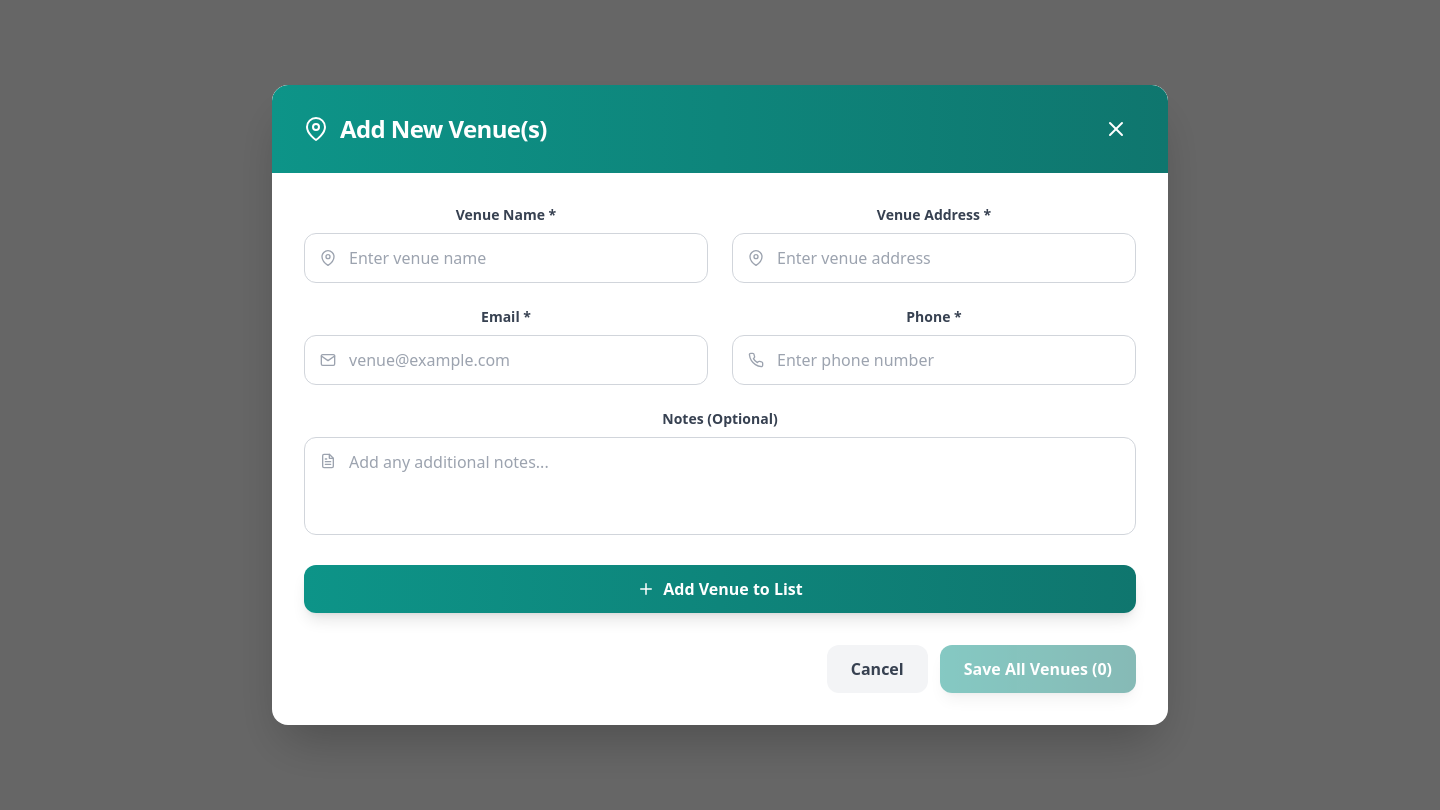
Test case: AddVenuesModal › shows error if saving fails
Step 1. Type "Test Venue" into the field with placeholder "Enter venue name" → (506, 258), box [304, 233, 708, 283]
Step 2. Type "123 Street" into the field with placeholder "Enter venue address" → (934, 258), box [732, 233, 1136, 283]
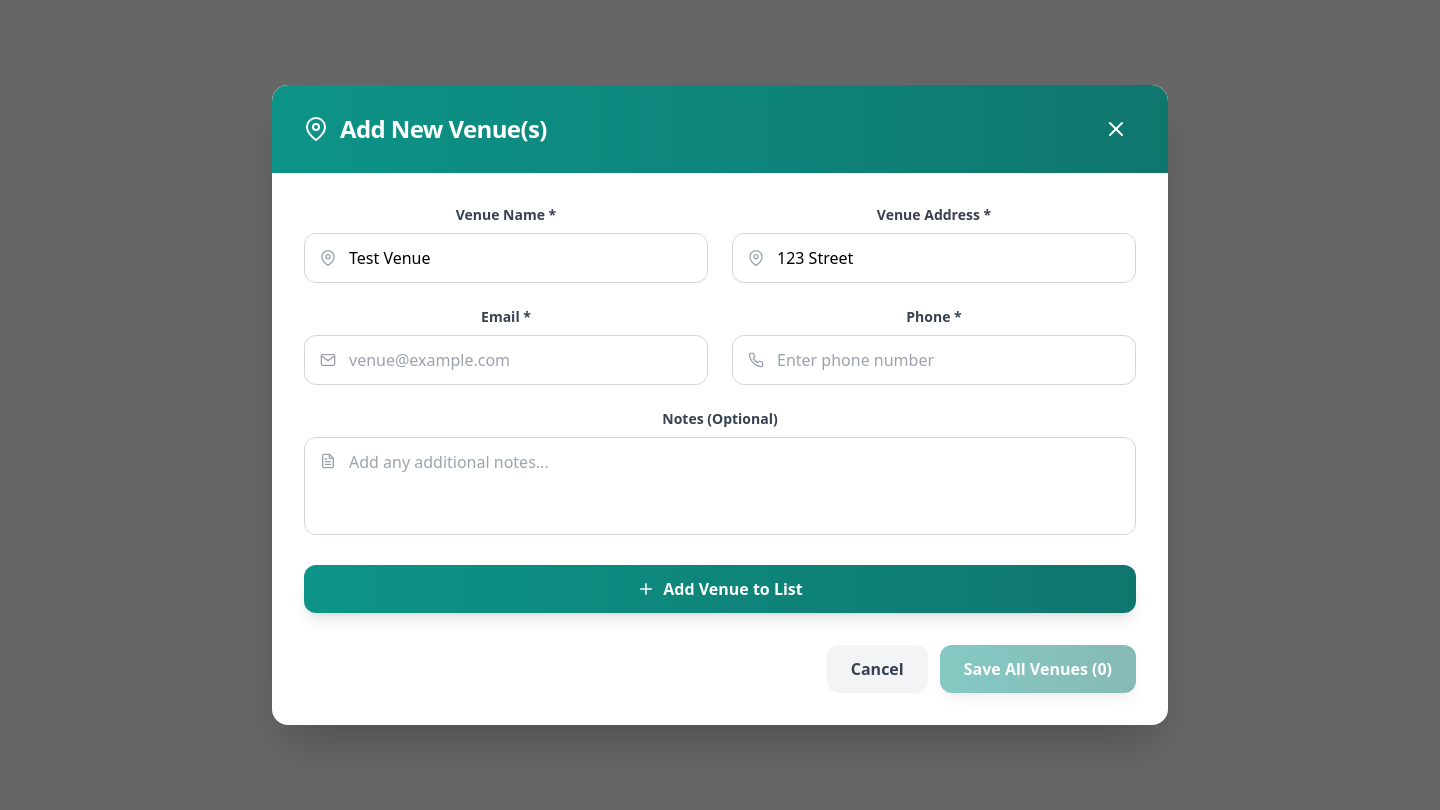
Step 3. Type "test@venue.com" into the field with placeholder "venue@example.com" → (506, 360), box [304, 335, 708, 385]
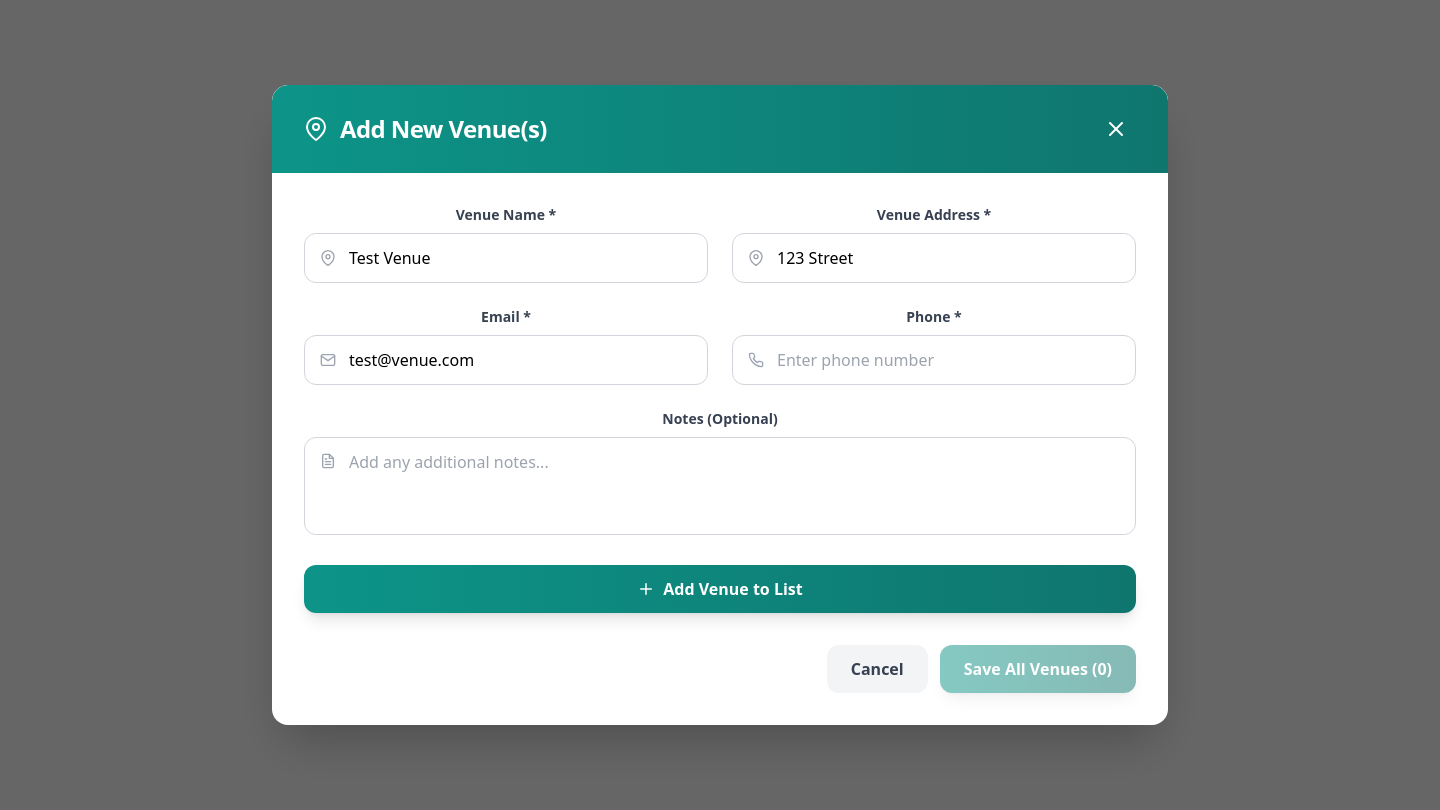
Step 4. Type "1234567890" into the field with placeholder "Enter phone number" → (934, 360), box [732, 335, 1136, 385]
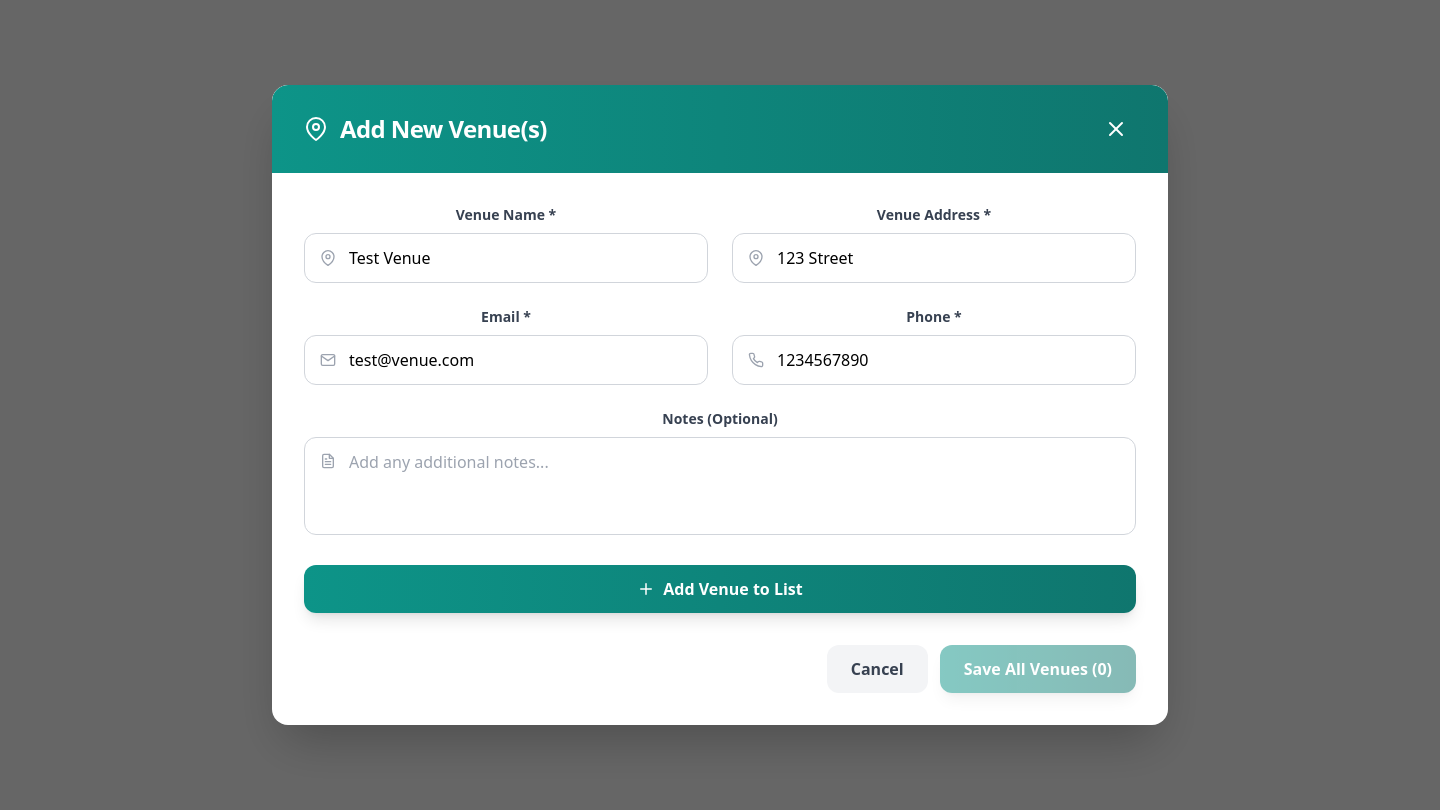
Step 5. Type "Nice place" into the text box with placeholder "Add any additional notes..." → (720, 486), box [304, 437, 1136, 535]
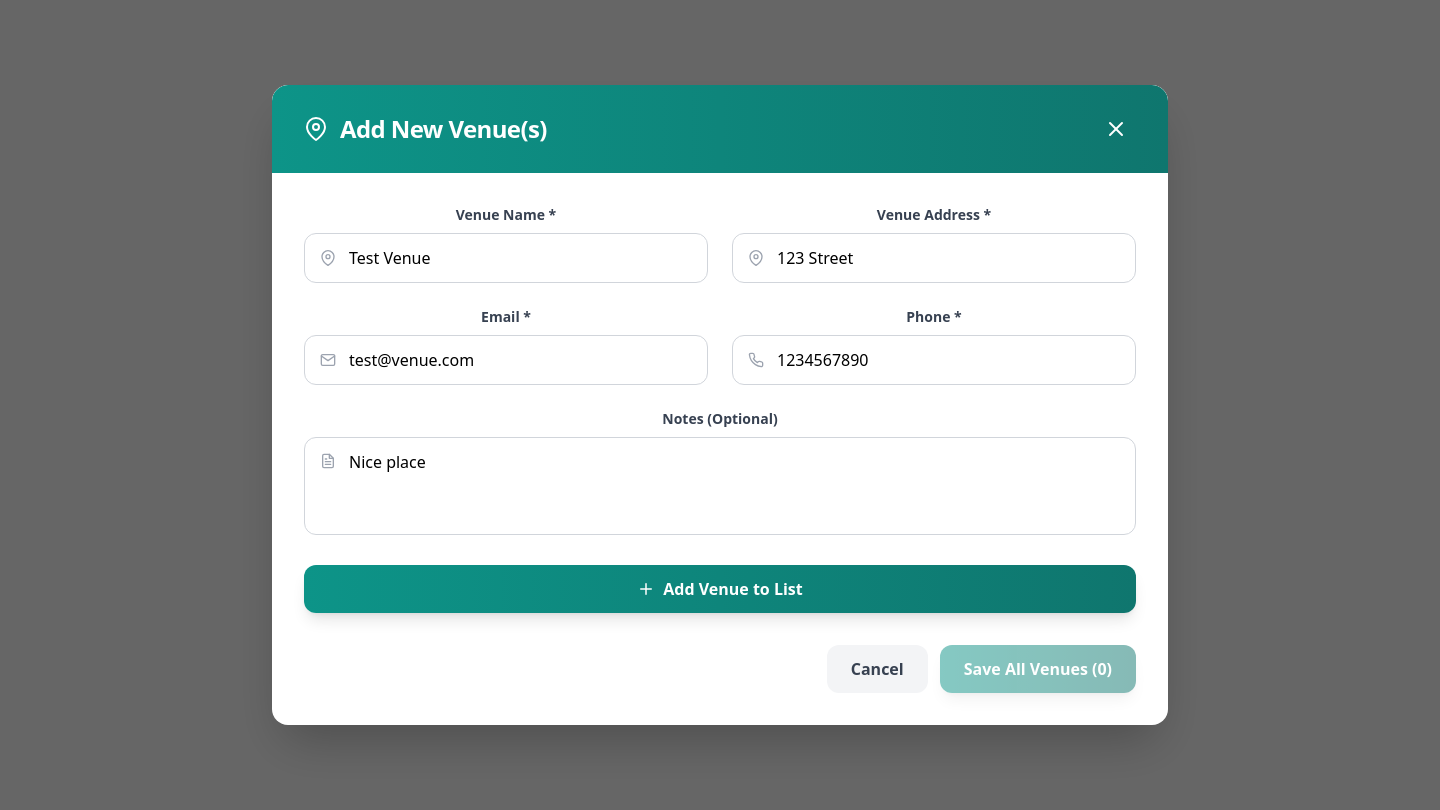
Step 6. Click the button "Add Venue to List" → (720, 589), box [304, 565, 1136, 613]
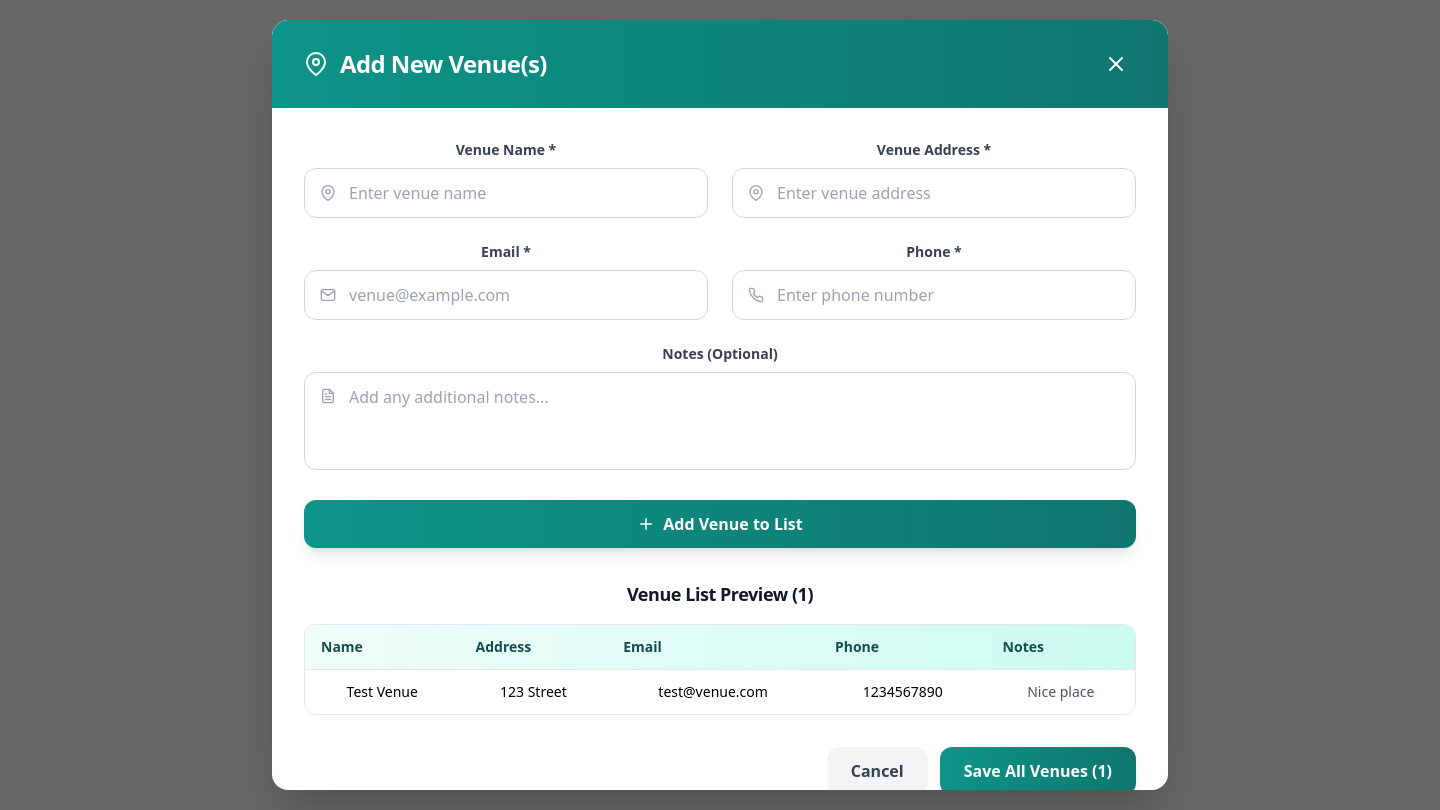
Step 7. Click the button "Save All Venues (1)" → (1038, 771), box [940, 747, 1136, 795]
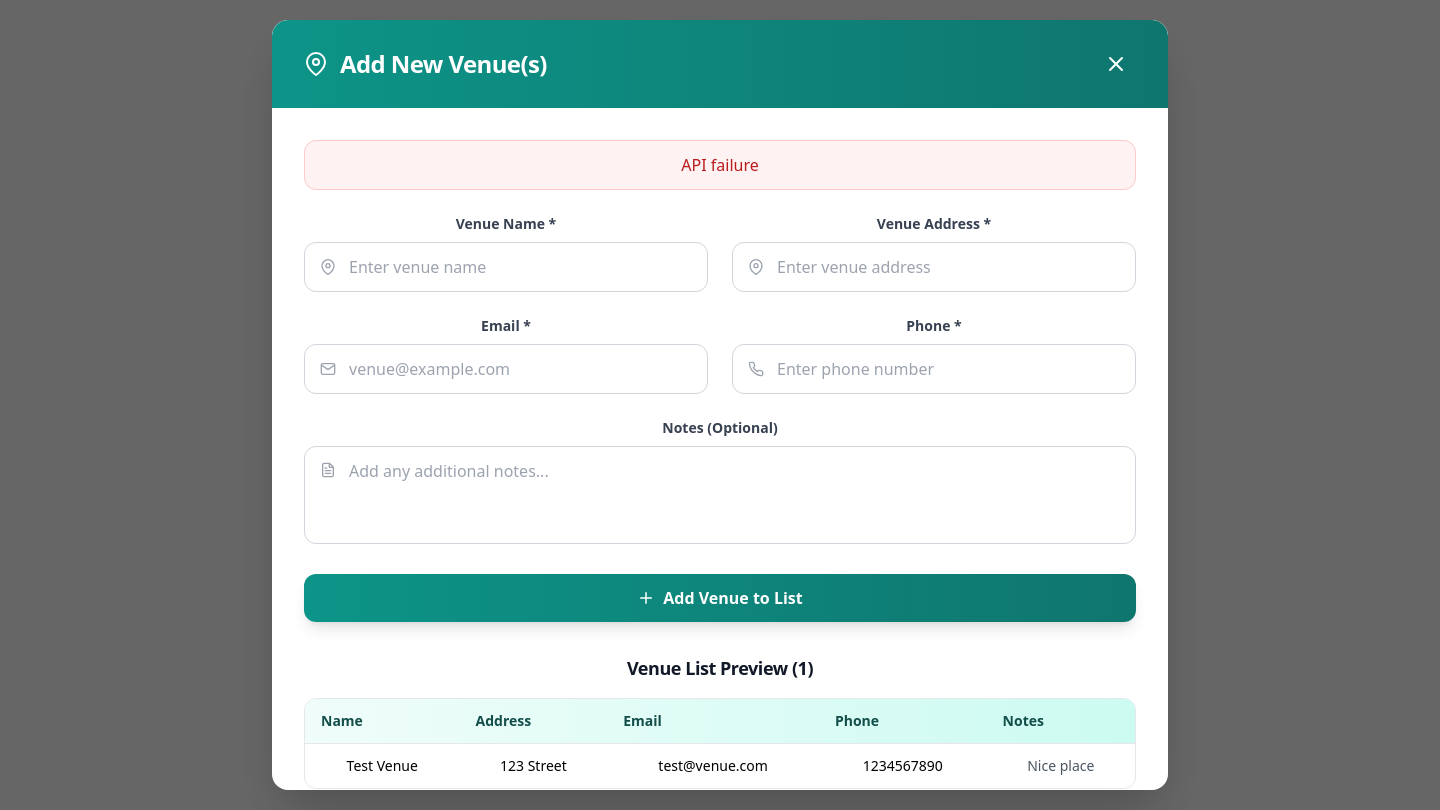
Check: the text "API failure" is shown, box [304, 140, 1136, 190]
